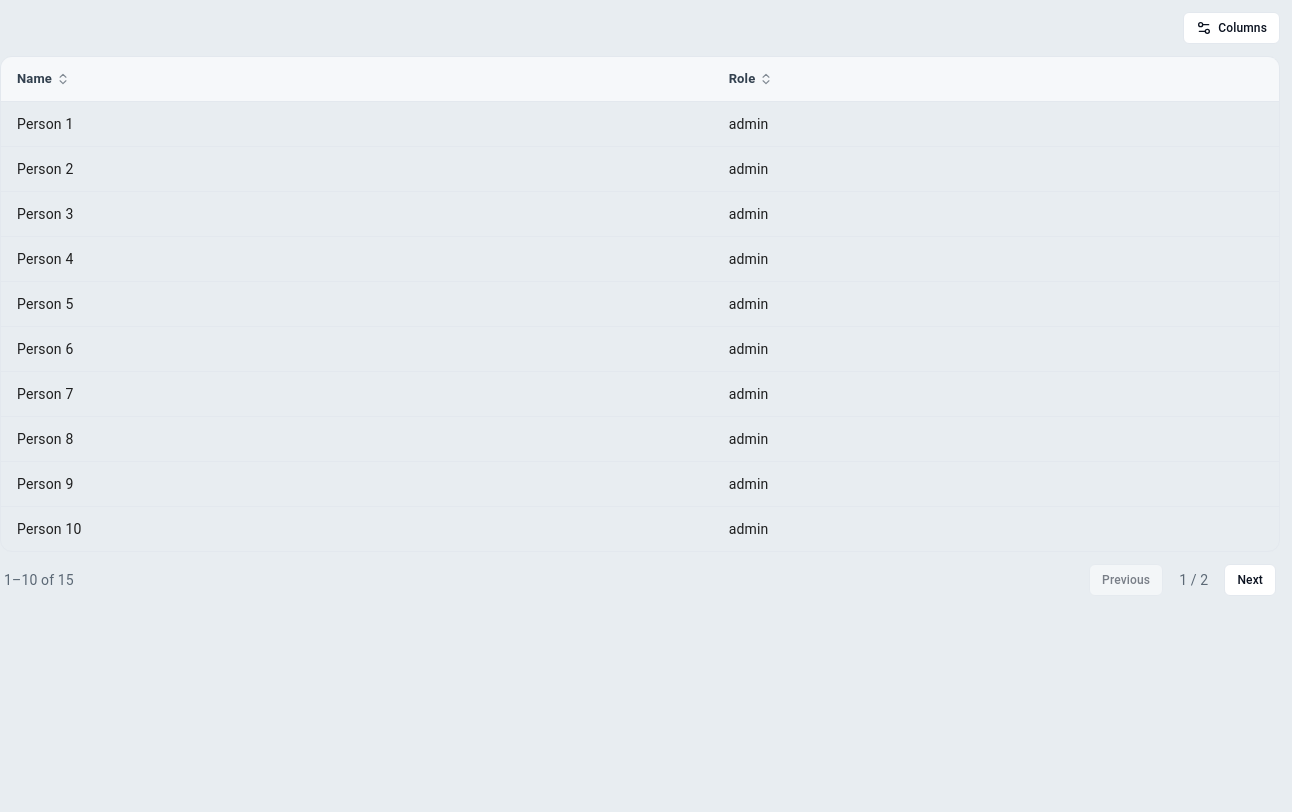
Test case: DataTable — pagination › next page advances and previous becomes enabled
Click the button "Next".
click(1250, 580)  # box [1224, 564, 1276, 596]
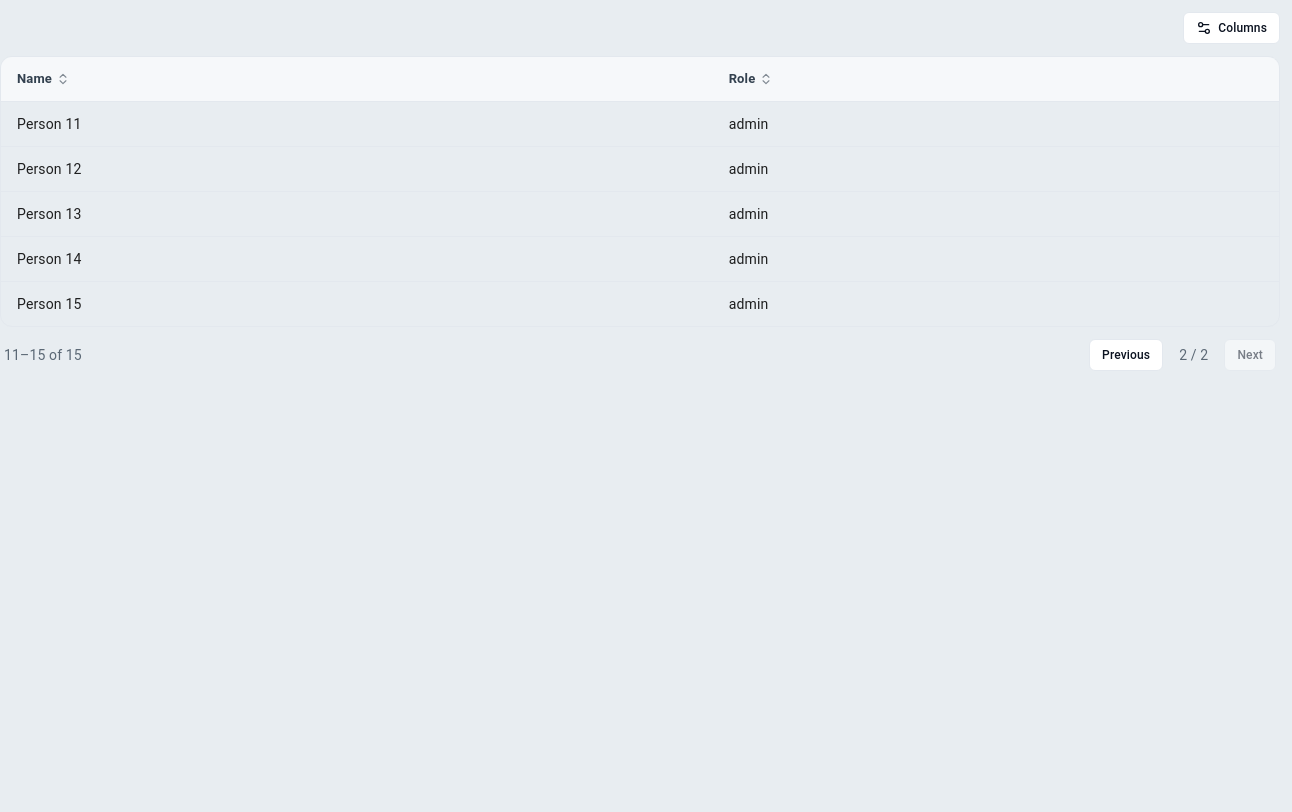
Result: the button "Previous" is enabled at [1089, 338, 1163, 370]
